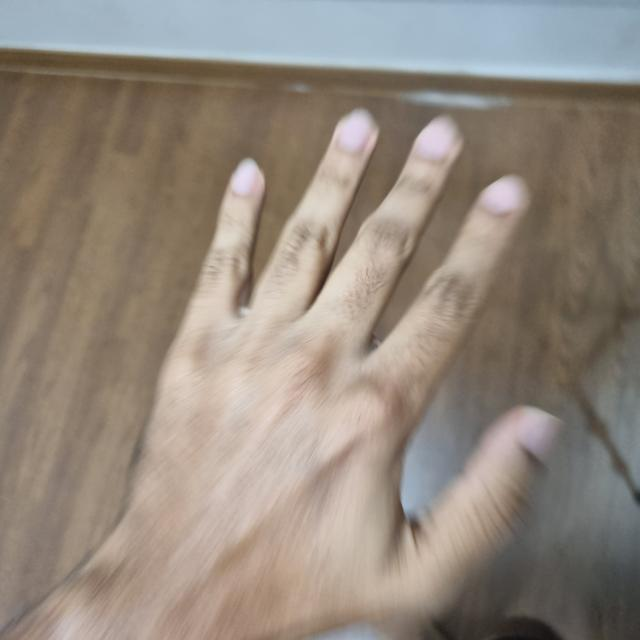Paper: (59, 115, 553, 640)
